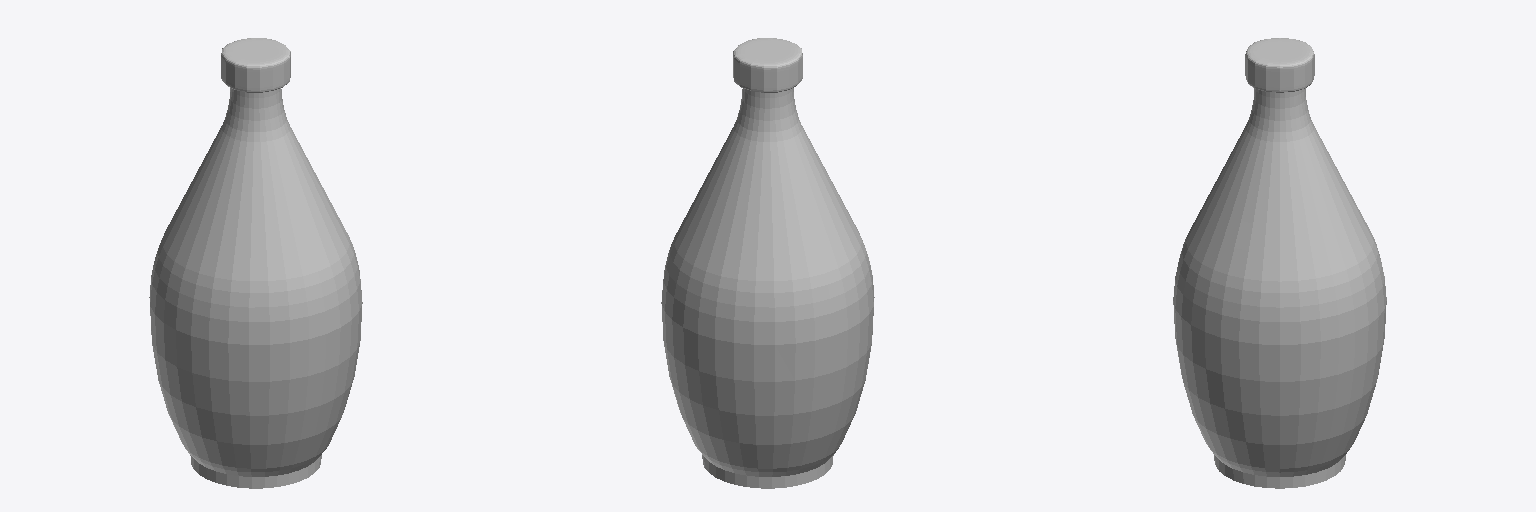
The model's file is SetA_Bottle_Style_03.obj.
3 views of the same model, side by side, from view 1: azimuth 30°, elevation 25°; view 2: azimuth 150°, elevation 25°; view 3: azimuth 270°, elevation 25° (orthographic).
Parts seen in each view (by area): view 1: SetA_PotionBottle_Style_03; view 2: SetA_PotionBottle_Style_03; view 3: SetA_PotionBottle_Style_03.
Part boxes in pixels (x1,y1,x2,y2): SetA_PotionBottle_Style_03: (149,38,362,488); SetA_PotionBottle_Style_03: (661,38,874,488); SetA_PotionBottle_Style_03: (1173,38,1386,488).
Bounding box in the file's own units: 0.037 × 0.0784 × 0.037.